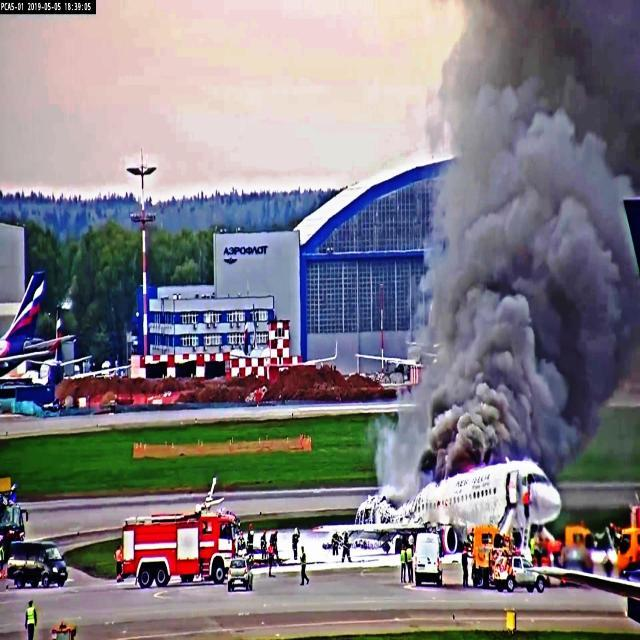Smoke: (425, 0, 633, 458)
